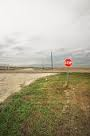stop_sign: (63, 59, 73, 69)
